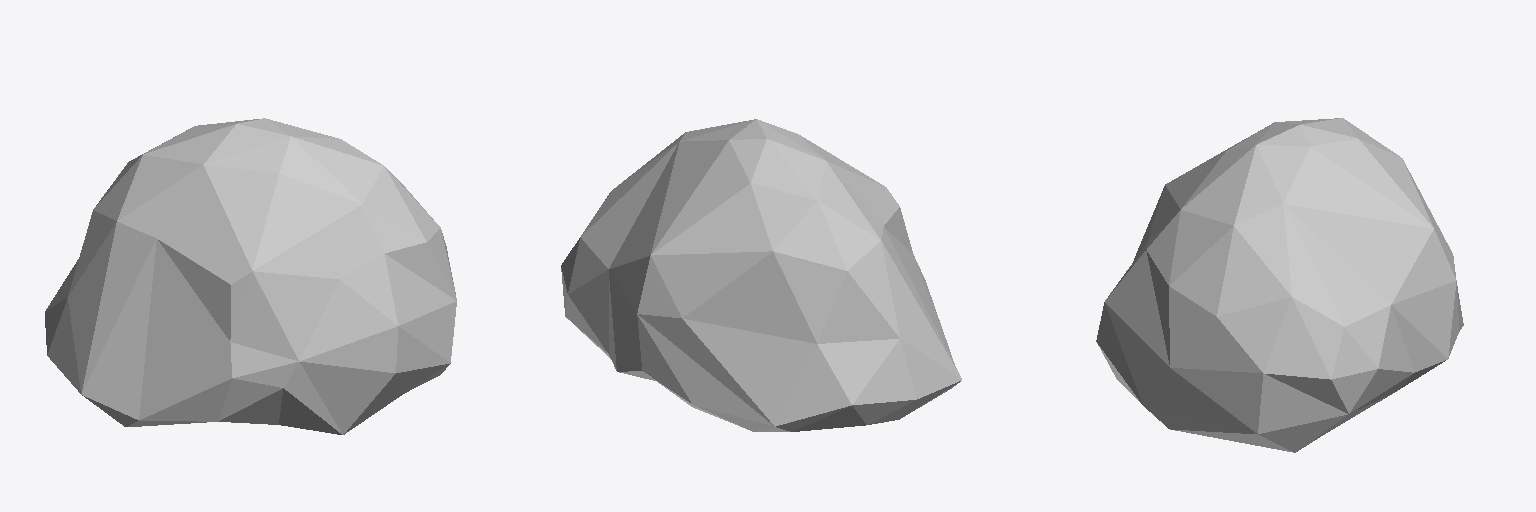
File: tree_round_up.obj
The picture shows the model from 3 angles: view 1: azimuth 30°, elevation 25°; view 2: azimuth 150°, elevation 25°; view 3: azimuth 270°, elevation 25°; orthographic projection.
Parts seen in each view (by area): view 1: leaves_Icosphere.002; view 2: leaves_Icosphere.002; view 3: leaves_Icosphere.002.
Part boxes in pixels (left/top/right/bottom): leaves_Icosphere.002: left=45, top=118, right=456, bottom=434; leaves_Icosphere.002: left=561, top=119, right=961, bottom=431; leaves_Icosphere.002: left=1096, top=118, right=1463, bottom=452.
Size of the model in its own units: 7.01 by 4.61 by 6.04.